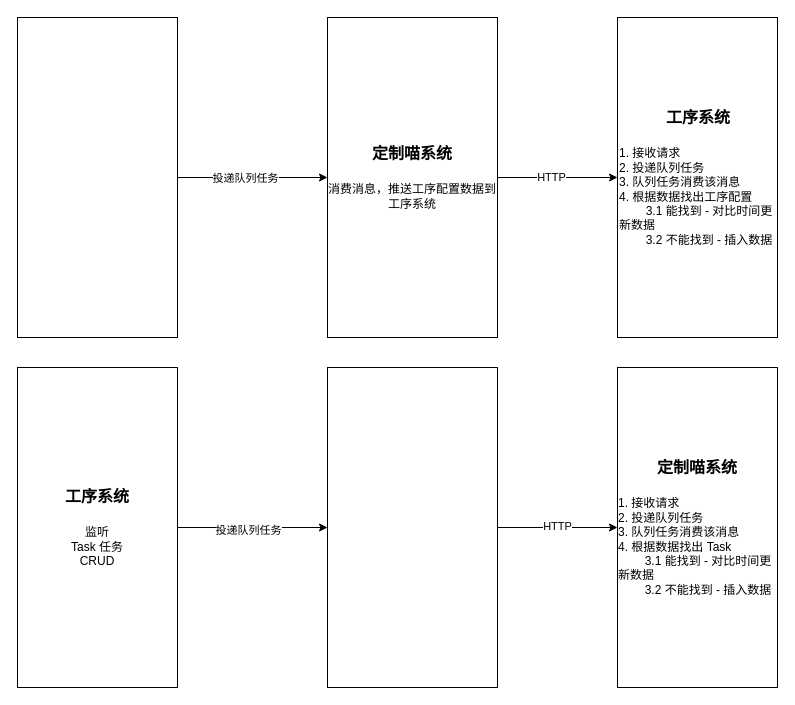
Some shapes in this 795 by 705 pixel diagram are drawn without their labels. Here are the shapes that lost their labels. From the top down, the centre of each, then its label:
point 97,177: 定制喵系统 监听 定制喵工序 CRUD
point 412,527: 工序系统 消费消息，推送工序Task数据到定制喵系统
